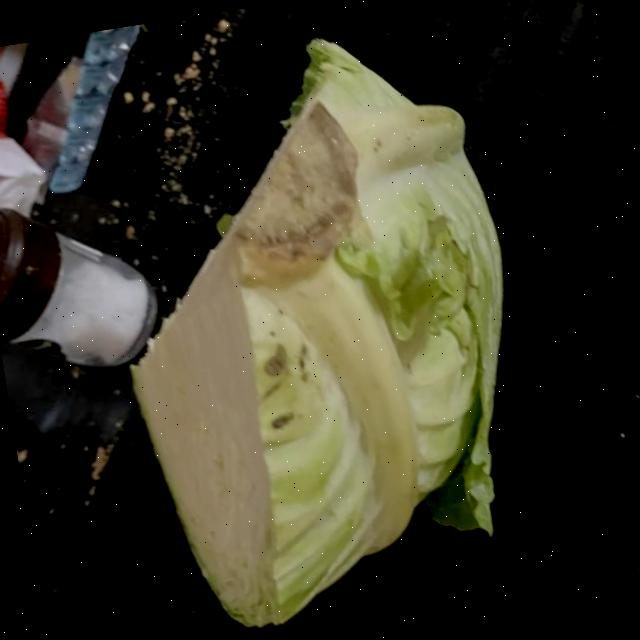cabbage: (80, 11, 556, 640)
